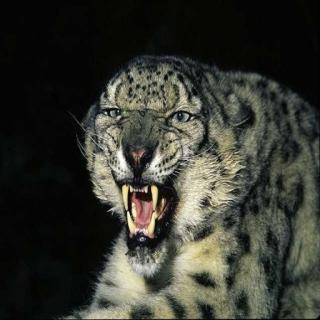Leopard: (55, 34, 320, 314)
